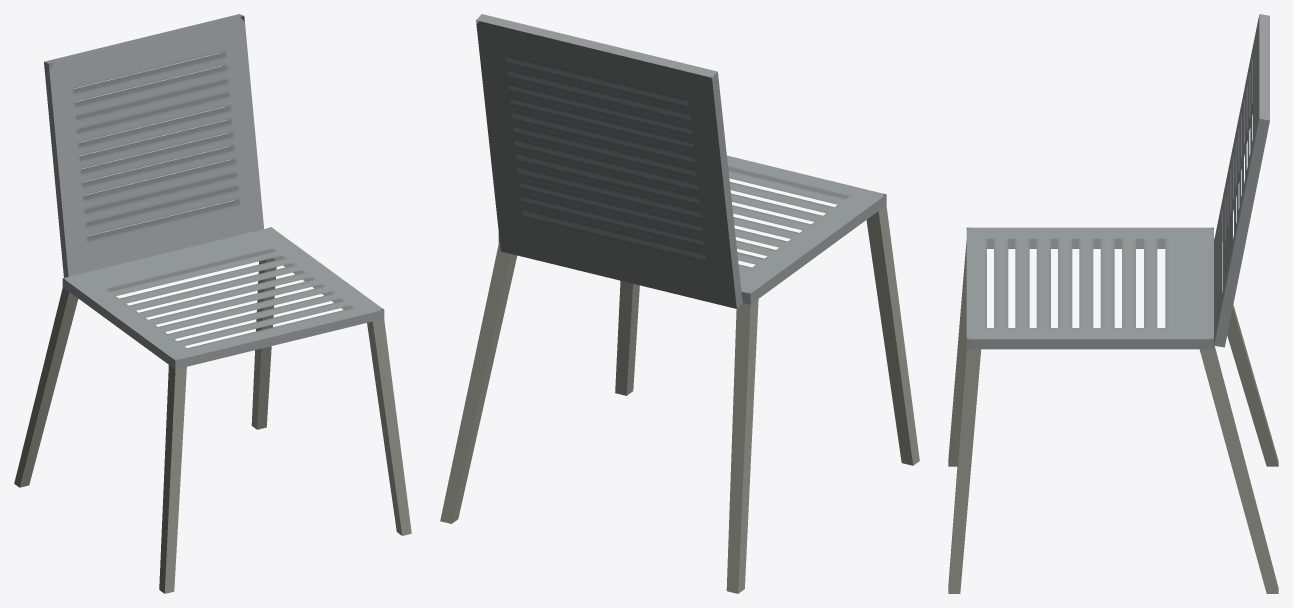
Rendered from chair-01.glb.
3 renders of one model, left to right at view 1: azimuth 30°, elevation 25°; view 2: azimuth 150°, elevation 25°; view 3: azimuth 270°, elevation 25°, orthographic. The views are drawn at different scales.
Visible parts, largest first — view 1: back, seat, leg_fl_0, leg_fl_1, leg_fl_2, leg_fl_3, leg_fr_1, leg_fr_0, leg_fr_2, leg_fl_4, leg_fl_5, leg_rl_1 (+9 smaller); view 2: back, seat, leg_rl_0, leg_rl_1, leg_rl_2, leg_rl_3, leg_rr_1, leg_rl_4, leg_rr_2, leg_fl_1, leg_rr_3, leg_rl_5 (+10 smaller); view 3: seat, back, leg_rr_0, leg_rr_1, leg_rr_2, leg_rr_3, leg_fr_0, leg_fr_1, leg_rr_4, leg_fr_2, leg_fr_3, leg_rr_5 (+6 smaller).
Boxes of the visible parts, x1=… form: back: x1=44, y1=14, x2=263, y2=277; seat: x1=62, y1=227, x2=384, y2=369; leg_fl_0: x1=167, y1=365, x2=186, y2=406; leg_fl_1: x1=165, y1=402, x2=184, y2=444; leg_fl_2: x1=164, y1=440, x2=182, y2=481; leg_fl_3: x1=162, y1=477, x2=180, y2=518; leg_fr_1: x1=371, y1=353, x2=393, y2=392; leg_fr_0: x1=367, y1=319, x2=388, y2=356; leg_fr_2: x1=376, y1=388, x2=397, y2=428; leg_fl_4: x1=161, y1=515, x2=178, y2=556; leg_fl_5: x1=159, y1=553, x2=176, y2=593; leg_rl_1: x1=46, y1=320, x2=71, y2=356; back: x1=476, y1=14, x2=742, y2=308; seat: x1=498, y1=155, x2=886, y2=304; leg_rl_0: x1=735, y1=299, x2=758, y2=352; leg_rl_1: x1=733, y1=347, x2=756, y2=400; leg_rl_2: x1=731, y1=396, x2=753, y2=449; leg_rl_3: x1=730, y1=444, x2=751, y2=497; leg_rr_1: x1=479, y1=287, x2=509, y2=338; leg_rl_4: x1=728, y1=493, x2=749, y2=545; leg_rr_2: x1=469, y1=334, x2=499, y2=385; leg_fl_1: x1=871, y1=248, x2=897, y2=295; leg_rr_3: x1=459, y1=380, x2=489, y2=431; leg_rl_5: x1=726, y1=541, x2=746, y2=593; seat: x1=966, y1=227, x2=1213, y2=349; back: x1=1214, y1=14, x2=1269, y2=347; leg_rr_0: x1=1199, y1=346, x2=1224, y2=389; leg_rr_1: x1=1211, y1=385, x2=1235, y2=430; leg_rr_2: x1=1222, y1=426, x2=1246, y2=471; leg_rr_3: x1=1233, y1=466, x2=1257, y2=512; leg_fr_0: x1=963, y1=347, x2=981, y2=389; leg_fr_1: x1=960, y1=386, x2=977, y2=430; leg_rr_4: x1=1244, y1=508, x2=1267, y2=553; leg_fr_2: x1=957, y1=426, x2=974, y2=471; leg_fr_3: x1=954, y1=470, x2=970, y2=512; leg_rr_5: x1=1255, y1=548, x2=1278, y2=593.
Bounding box in the file's own units: 0.5174 × 0.8409 × 0.5461.
Materials: 1 (1 with a texture image).
